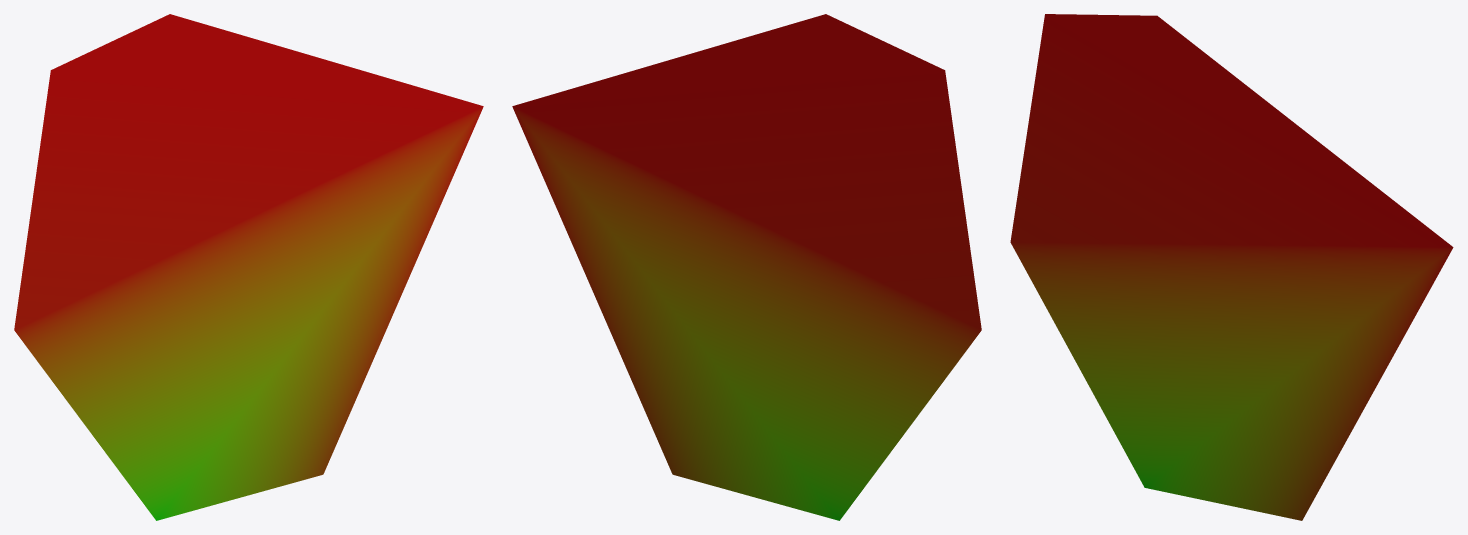
Rendered from Leptadenia_LOD5_Var7_xdkgfgtqx.fbx.
3 views of the same model, side by side, from view 1: azimuth 30°, elevation 25°; view 2: azimuth 150°, elevation 25°; view 3: azimuth 330°, elevation 25° (orthographic). The views are drawn at different scales.
Parts seen in each view (by area): view 1: _fli5_Var7_LOD5; view 2: _fli5_Var7_LOD5; view 3: _fli5_Var7_LOD5.
Part boxes in pixels (box(x1,y1,x2,y2)): _fli5_Var7_LOD5: box(14, 14, 483, 520); _fli5_Var7_LOD5: box(512, 14, 981, 520); _fli5_Var7_LOD5: box(1010, 14, 1453, 520).
Bounding box in the file's own units: 79.96 × 81.94 × 6.1e-05.
